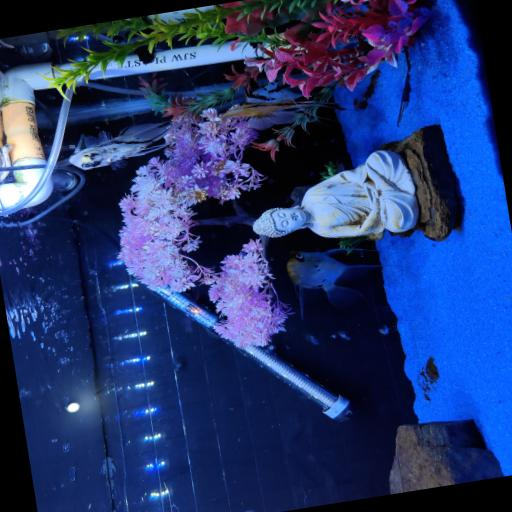Fish: (287, 248, 381, 316), (69, 122, 174, 169), (221, 98, 344, 129), (0, 39, 14, 47), (379, 324, 390, 333), (245, 509, 254, 511)
